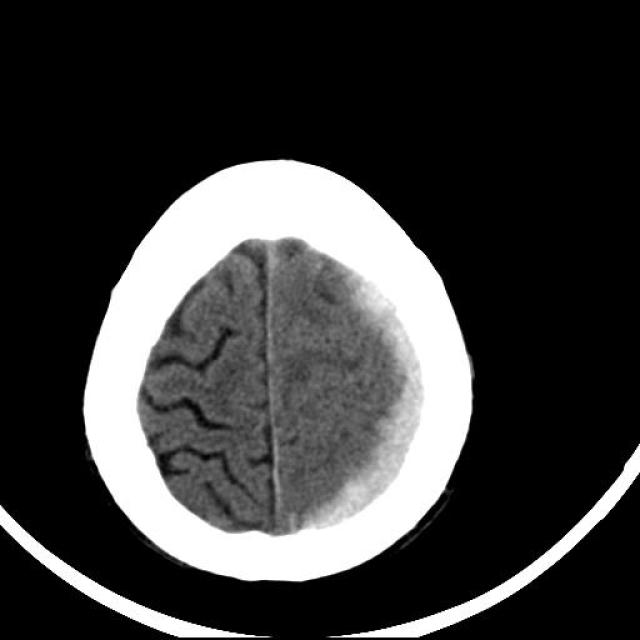Subdural: (309, 260, 456, 542)
